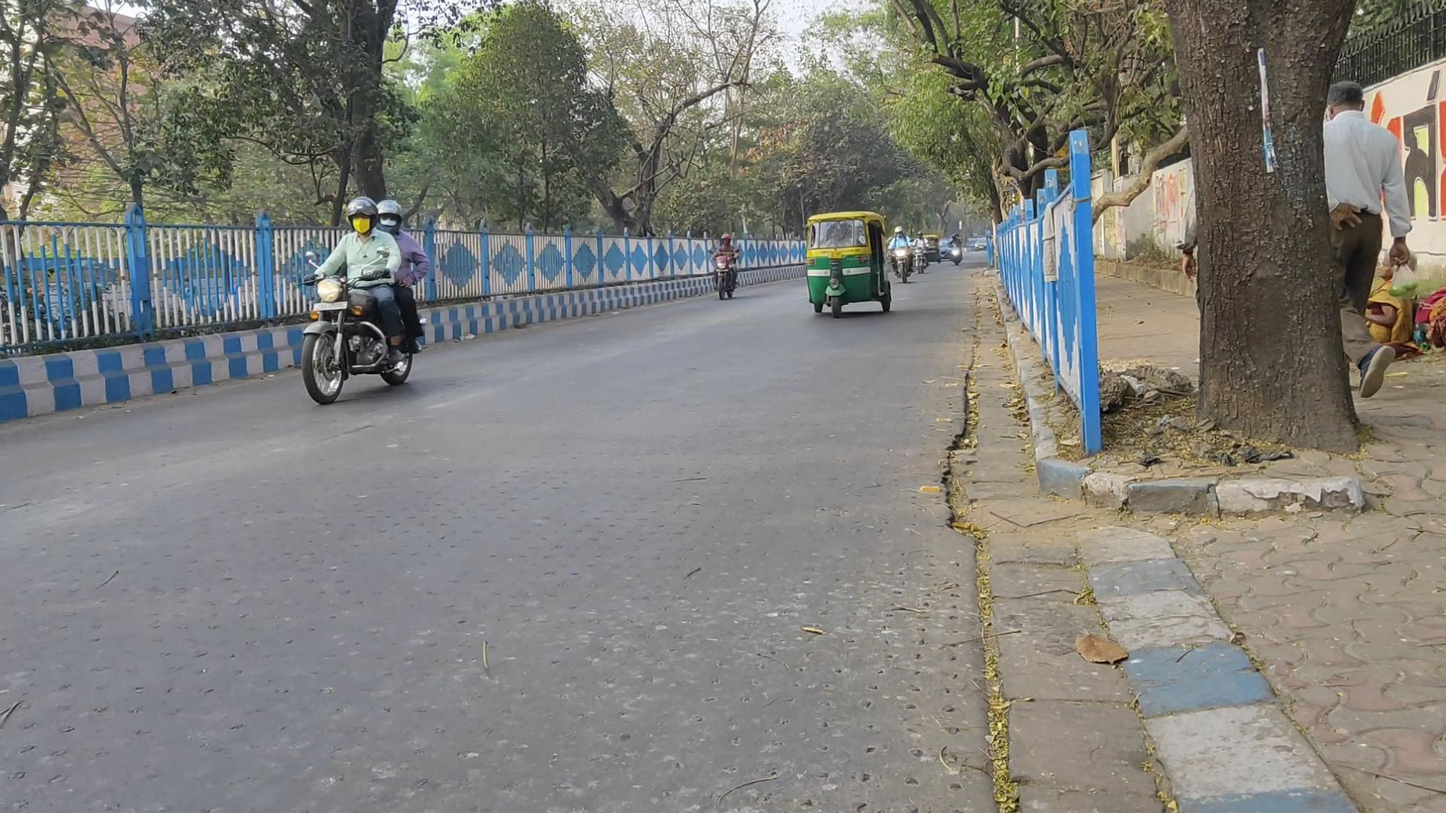Auto: (804, 210, 893, 318), (923, 233, 943, 265)
bike: (300, 197, 423, 405), (709, 232, 741, 301), (889, 225, 914, 284), (911, 230, 929, 275), (946, 233, 964, 267)
